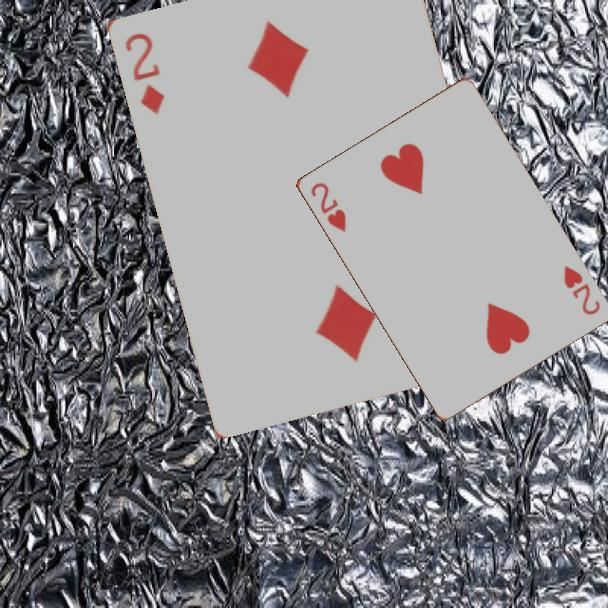d02: (121, 29, 167, 117)
h02: (559, 262, 603, 318), (306, 179, 349, 235)
